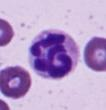N: (26, 28, 80, 80)
